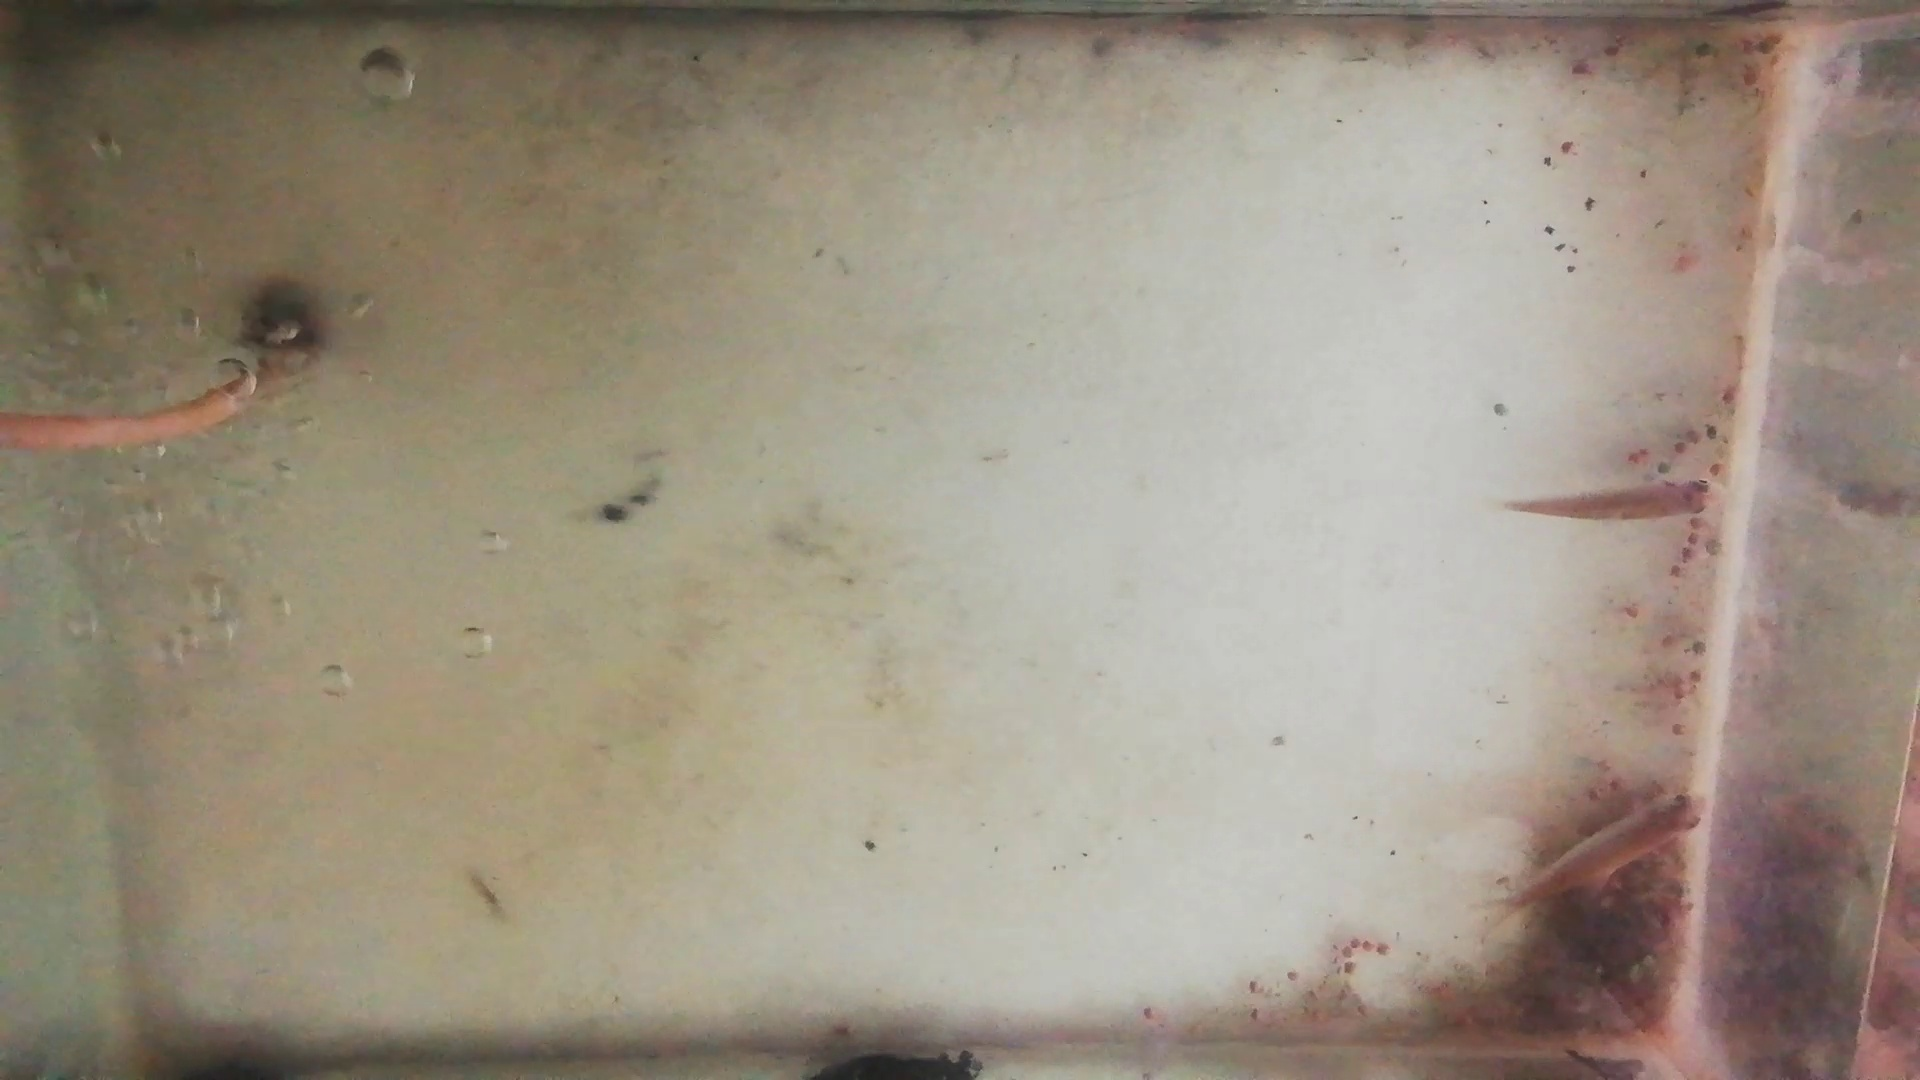fish: (1507, 793, 1710, 909), (1509, 479, 1722, 524)
